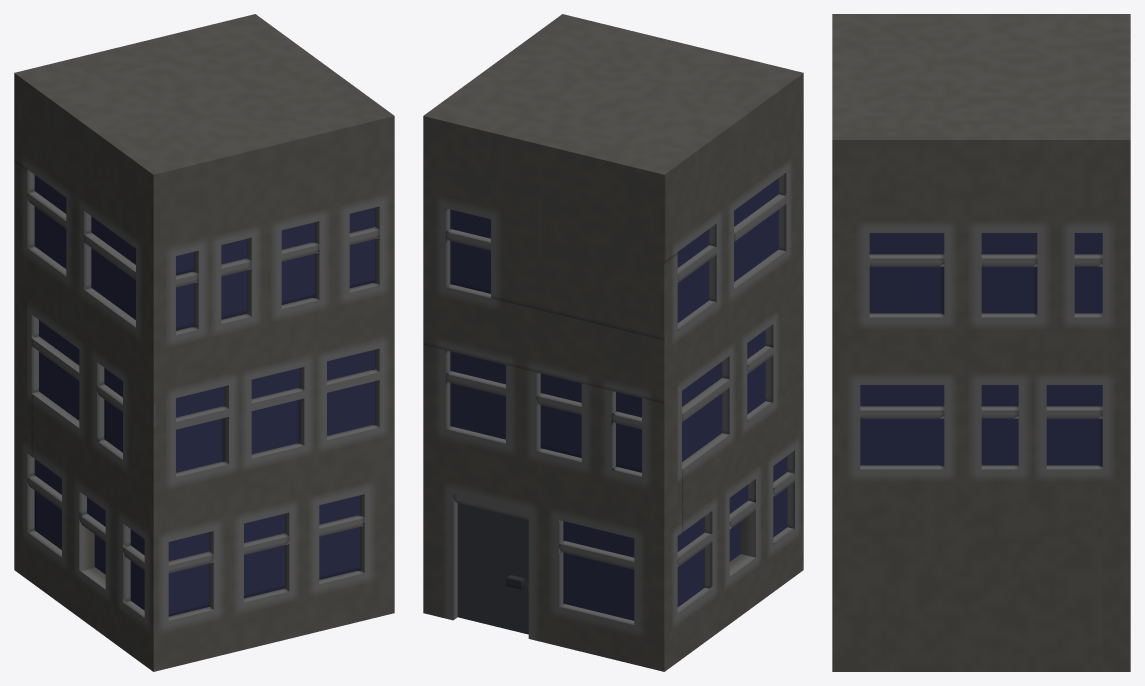
File: budynek_uni_5.dae
The picture shows the model from 3 angles, left to right: view 1: azimuth 30°, elevation 25°; view 2: azimuth 150°, elevation 25°; view 3: azimuth 270°, elevation 25°; orthographic projection. The views are drawn at different scales.
Visible parts, largest first — view 1: Content; view 2: Content; view 3: Content.
Boxes of the visible parts, left/top/right/bottom form: Content: left=14, top=14, right=394, bottom=671; Content: left=423, top=14, right=803, bottom=671; Content: left=832, top=14, right=1130, bottom=671.
Size of the model in its own units: 32 by 63 by 32.
1 material, 1 textured.
